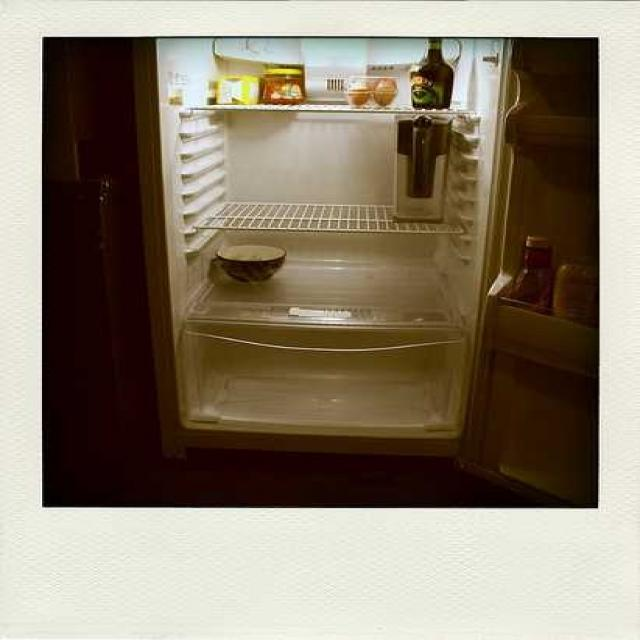refrigerator: (145, 38, 512, 444)
